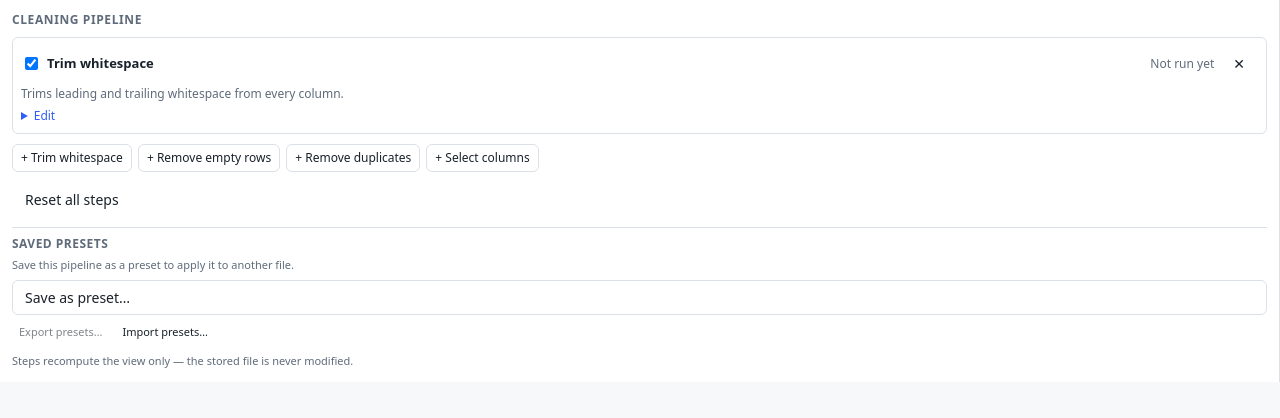
Test: CleaningPanel presets › rejects an empty name with an explanation
Step 1. Click the button "Save as preset…" → coordinates (78, 297), box [12,280,1267,314]
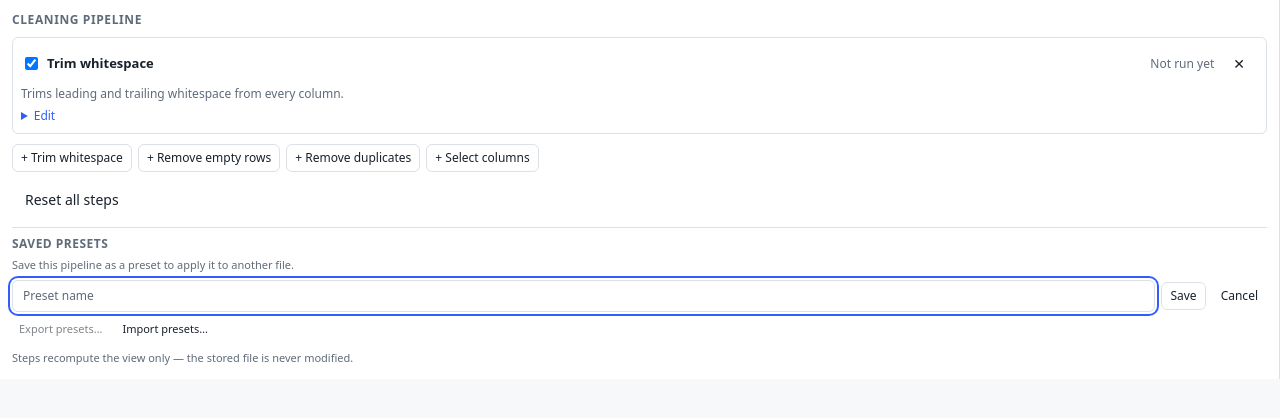
Step 2. Click the button "Save" → coordinates (1184, 296), box [1162,282,1206,310]
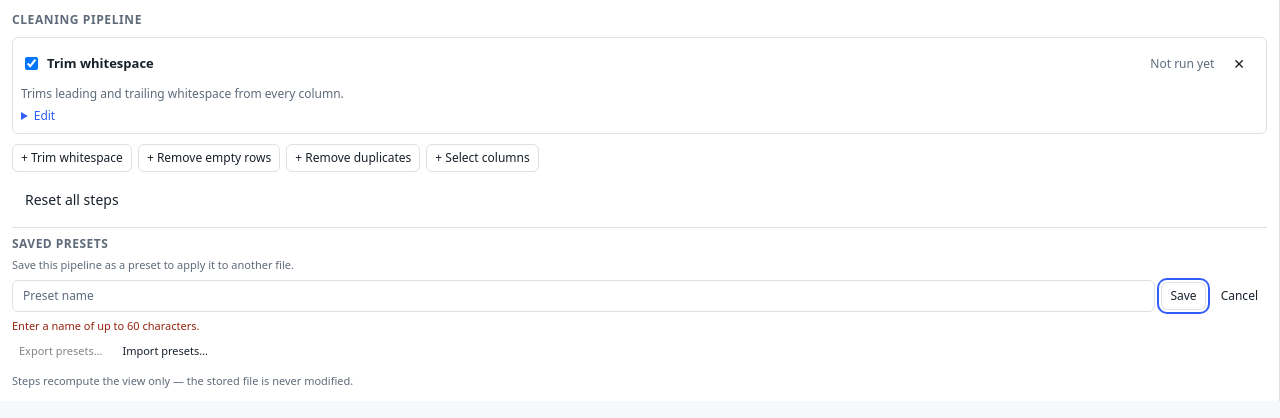
Expected: the message shows "Enter a name", [12,318,200,332]
